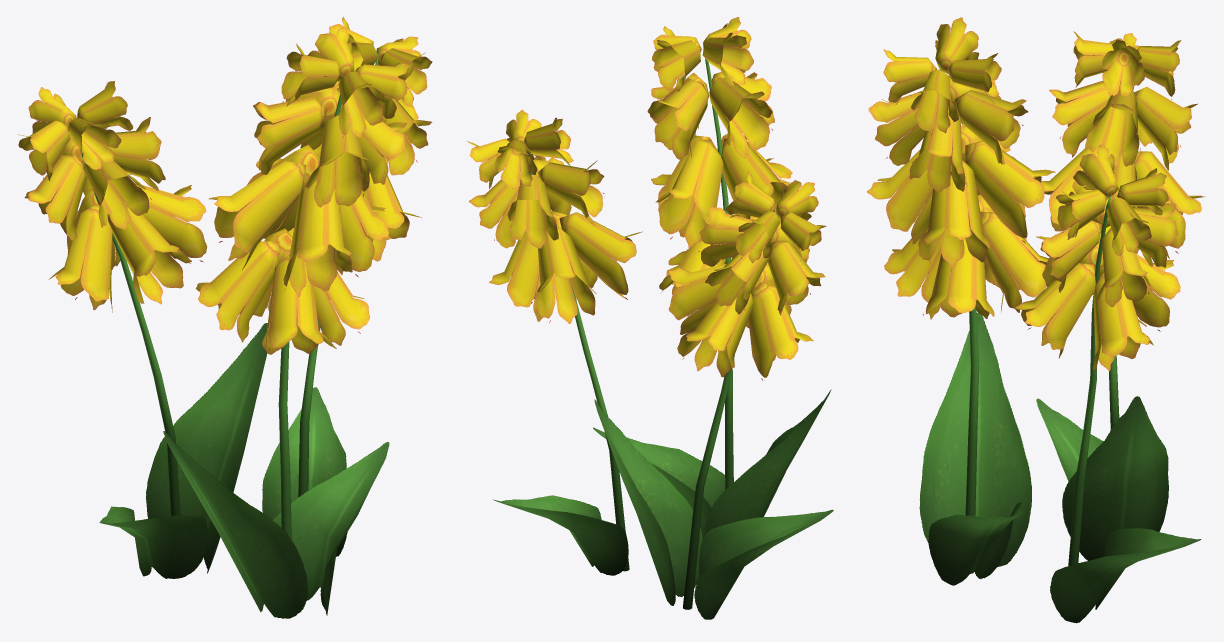
The model's file is Flowers_Yellow.glb.
3 views of the same model, side by side, from view 1: azimuth 30°, elevation 25°; view 2: azimuth 150°, elevation 25°; view 3: azimuth 270°, elevation 25° (orthographic). The views are drawn at different scales.
Parts seen in each view (by area): view 1: Flower_4_Group; view 2: Flower_4_Group; view 3: Flower_4_Group.
Boxes of the visible parts, x1,y1,x2,y2 form: Flower_4_Group: (17, 17, 432, 618); Flower_4_Group: (467, 17, 833, 619); Flower_4_Group: (867, 17, 1205, 623).
Bounding box in the file's own units: 1.78 × 2.49 × 1.37.
Materials: 2 (2 with a texture image).
